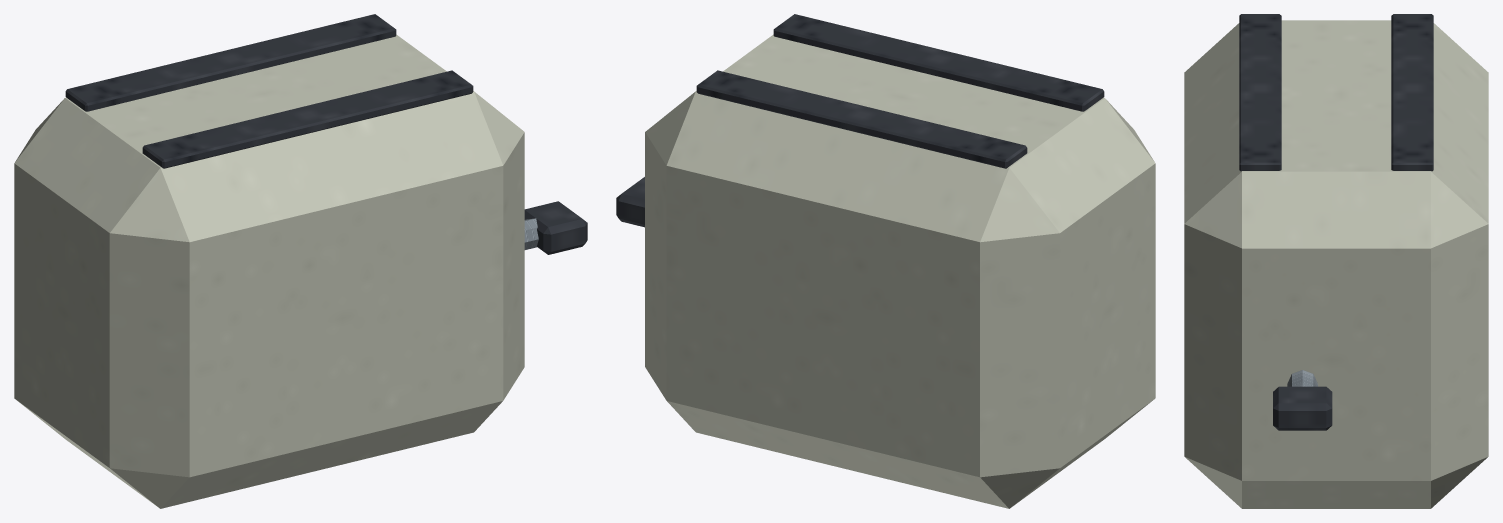
Rendered from MD_58_Toaster.fbx.
3 renders of one model, left to right at view 1: azimuth 30°, elevation 25°; view 2: azimuth 150°, elevation 25°; view 3: azimuth 270°, elevation 25°, orthographic.
Visible parts, largest first — view 1: MD_58_Toaster_rounded_toaster_body, MD_58_Toaster_bread_slot, MD_58_Toaster_bread_slot.001, MD_58_Toaster_lever_grip; view 2: MD_58_Toaster_rounded_toaster_body, MD_58_Toaster_bread_slot.001, MD_58_Toaster_bread_slot, MD_58_Toaster_lever_grip; view 3: MD_58_Toaster_rounded_toaster_body, MD_58_Toaster_bread_slot, MD_58_Toaster_bread_slot.001, MD_58_Toaster_lever_grip, MD_58_Toaster_toaster_lever.
Part boxes in pixels (x1,y1,x2,y2): MD_58_Toaster_rounded_toaster_body: [14, 34, 524, 508]; MD_58_Toaster_bread_slot: [142, 70, 473, 168]; MD_58_Toaster_bread_slot.001: [65, 14, 396, 111]; MD_58_Toaster_lever_grip: [524, 201, 587, 254]; MD_58_Toaster_rounded_toaster_body: [645, 34, 1155, 508]; MD_58_Toaster_bread_slot.001: [696, 70, 1027, 168]; MD_58_Toaster_bread_slot: [773, 14, 1104, 111]; MD_58_Toaster_lever_grip: [616, 177, 644, 227]; MD_58_Toaster_rounded_toaster_body: [1184, 20, 1488, 508]; MD_58_Toaster_bread_slot: [1239, 14, 1281, 171]; MD_58_Toaster_bread_slot.001: [1391, 14, 1433, 171]; MD_58_Toaster_lever_grip: [1273, 386, 1332, 430]; MD_58_Toaster_toaster_lever: [1287, 370, 1317, 386].
Size of the model in its own units: 0.335 by 0.225 by 0.18.
Materials: 3 (3 with a texture image).
